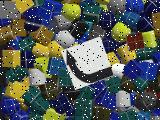Right: (61, 36, 114, 90)
